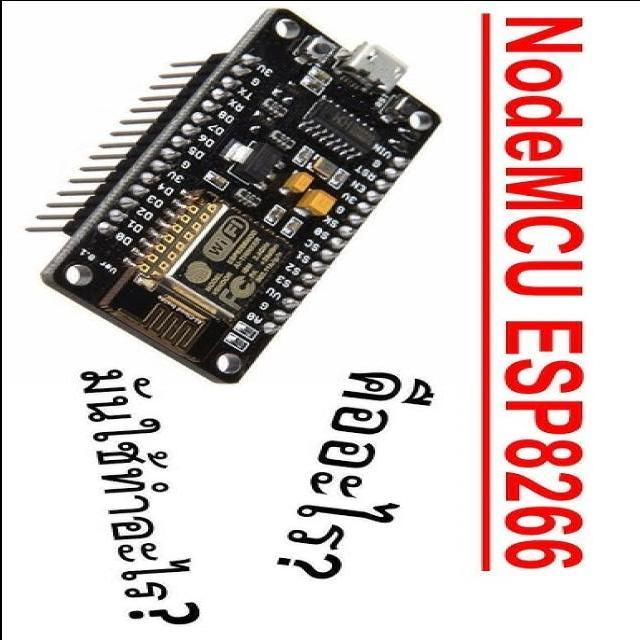Esp8266: (44, 10, 440, 383)
